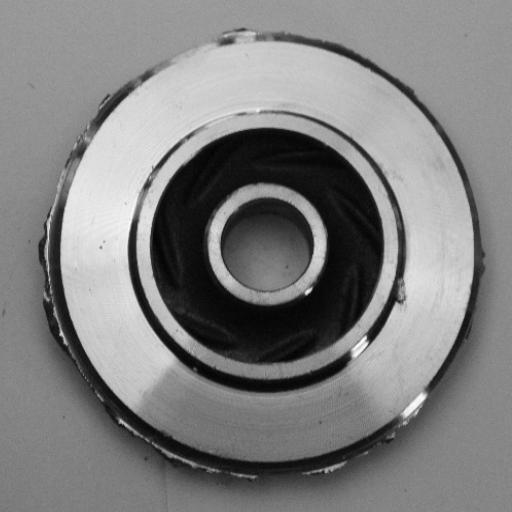casting_with_burr: (34, 24, 488, 488)
crack: (387, 270, 413, 316)
scratch: (192, 99, 274, 133), (338, 322, 385, 372), (292, 271, 331, 317)
